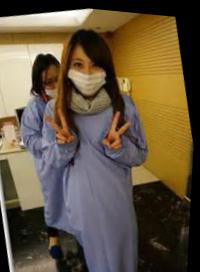WRONG: (70, 53, 110, 94), (44, 71, 70, 101)
